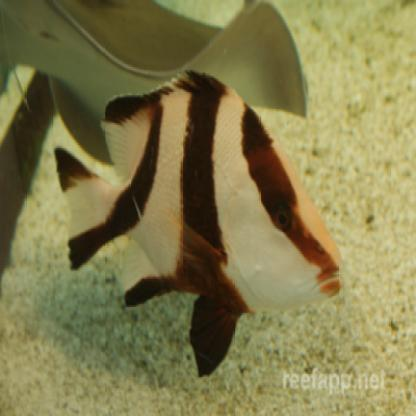snapper: (53, 59, 354, 356)
